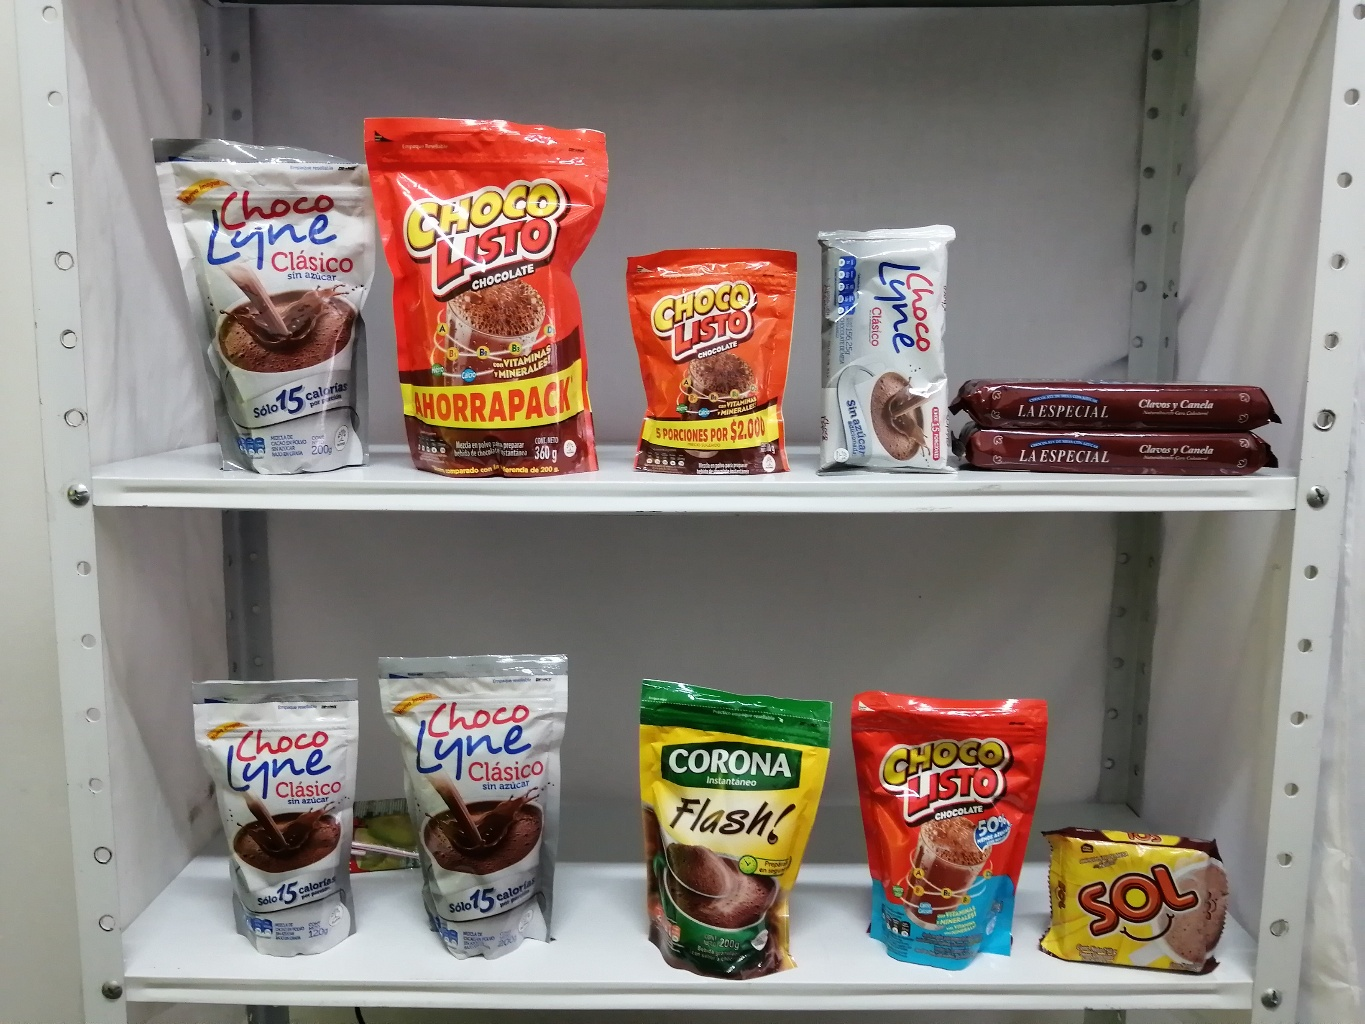COL0170103DYP36000: (355, 99, 616, 484)
COL0170104DYP20000: (841, 680, 1051, 968)
